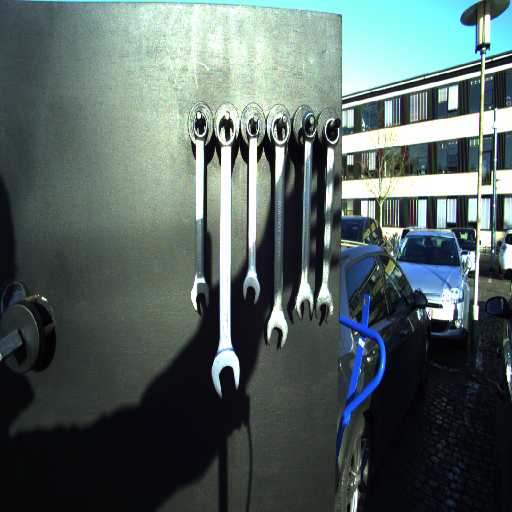bottom: (209, 352, 243, 400), (264, 312, 289, 348), (293, 281, 314, 320), (189, 279, 213, 313), (314, 288, 338, 322), (240, 274, 262, 305)
top: (269, 112, 293, 148), (213, 112, 239, 145), (322, 115, 341, 146), (190, 110, 210, 139), (299, 109, 319, 138), (244, 114, 262, 139)
